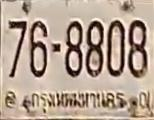0: (106, 19, 126, 75)
6: (29, 20, 48, 77)
7: (8, 20, 27, 77)
8: (127, 19, 147, 77), (85, 20, 104, 76), (64, 20, 82, 76)
BKK: (29, 88, 128, 113)
